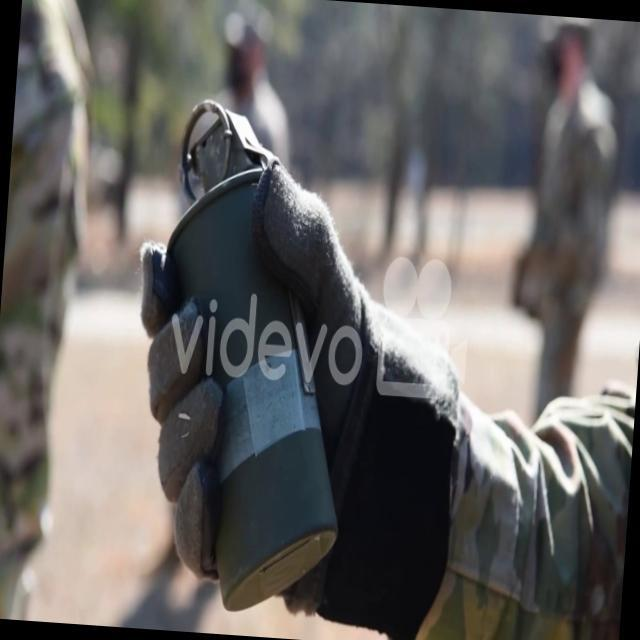grenade: (125, 98, 374, 619)
